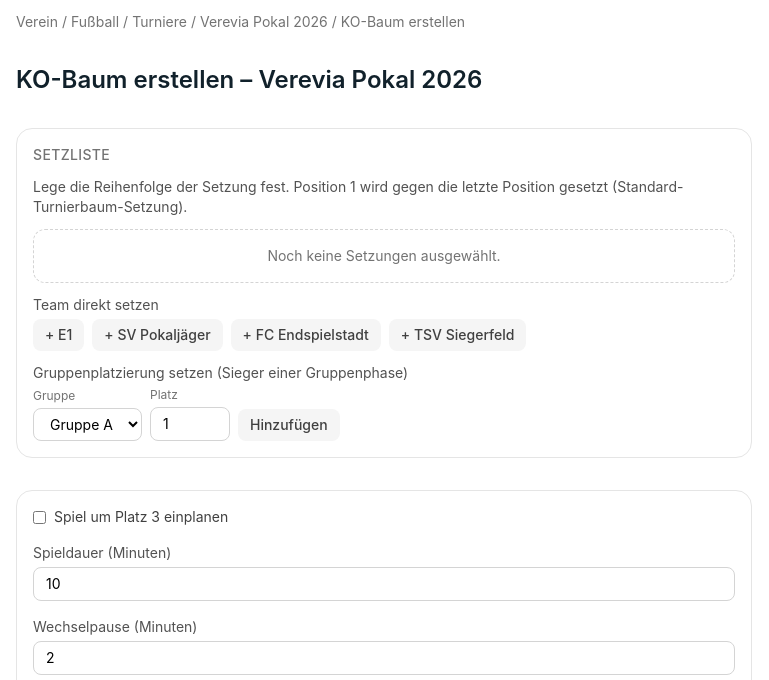
Test: TournamentKnockoutGenerator › reorders entrants with the up/down controls
This screenshot has width=769, height=680.
Click the button "+ E1" at (59, 335), box [33,319,84,351]
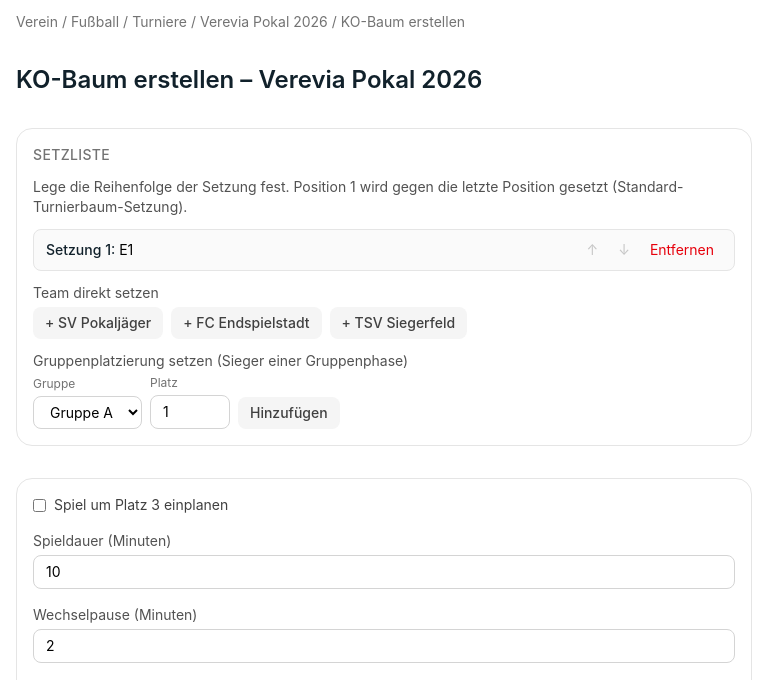
Click the button "+ SV Pokaljäger" at (98, 323), box [33,307,163,339]
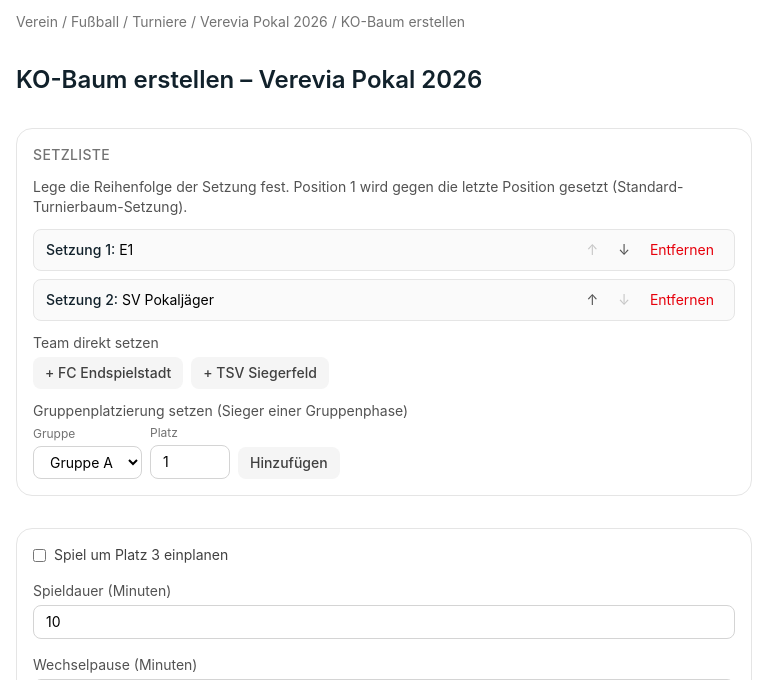
Result: the list item "Setzung 1: E1 ↑ ↓ Entfernen" is shown at [33,229,735,271]
Result: the list item "Setzung 2: SV Pokaljäger ↑ ↓ Entfernen" is shown at [33,279,735,321]
Click the button named "Setzung 2 nach oben verschieben" at (592, 300), box [579,286,606,314]
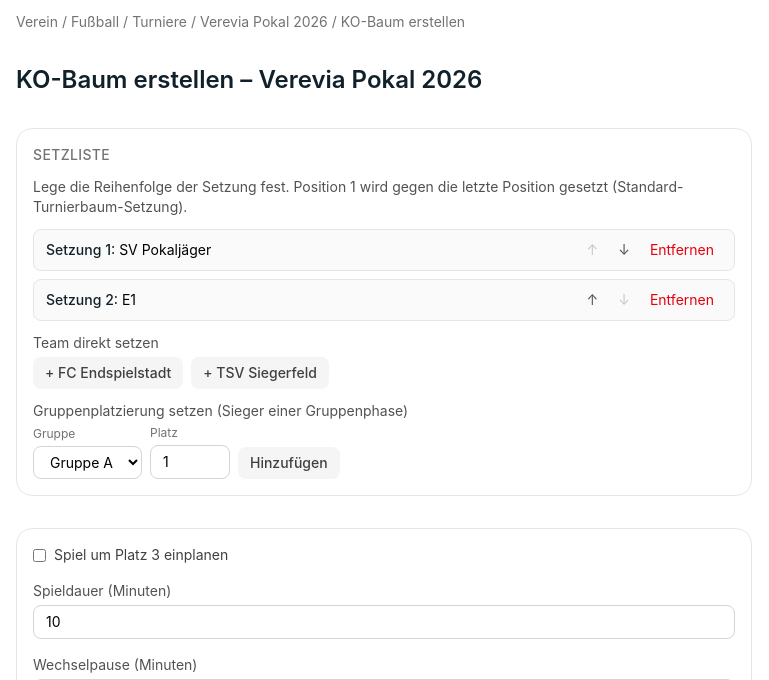
Result: the list item "Setzung 1: SV Pokaljäger ↑ ↓ Entfernen" is shown at [33,229,735,271]
Result: the list item "Setzung 2: E1 ↑ ↓ Entfernen" is shown at [33,279,735,321]
